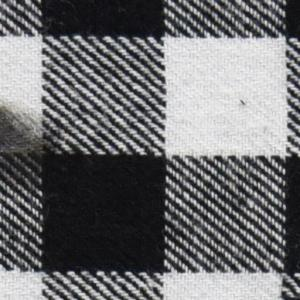Stain: (1, 105, 60, 190)
